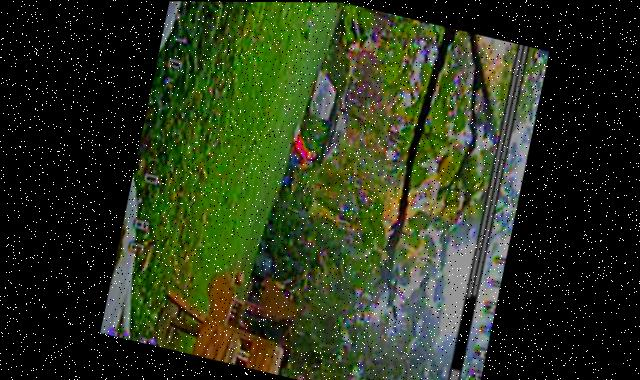horse: (177, 263, 317, 380), (149, 258, 257, 365)
